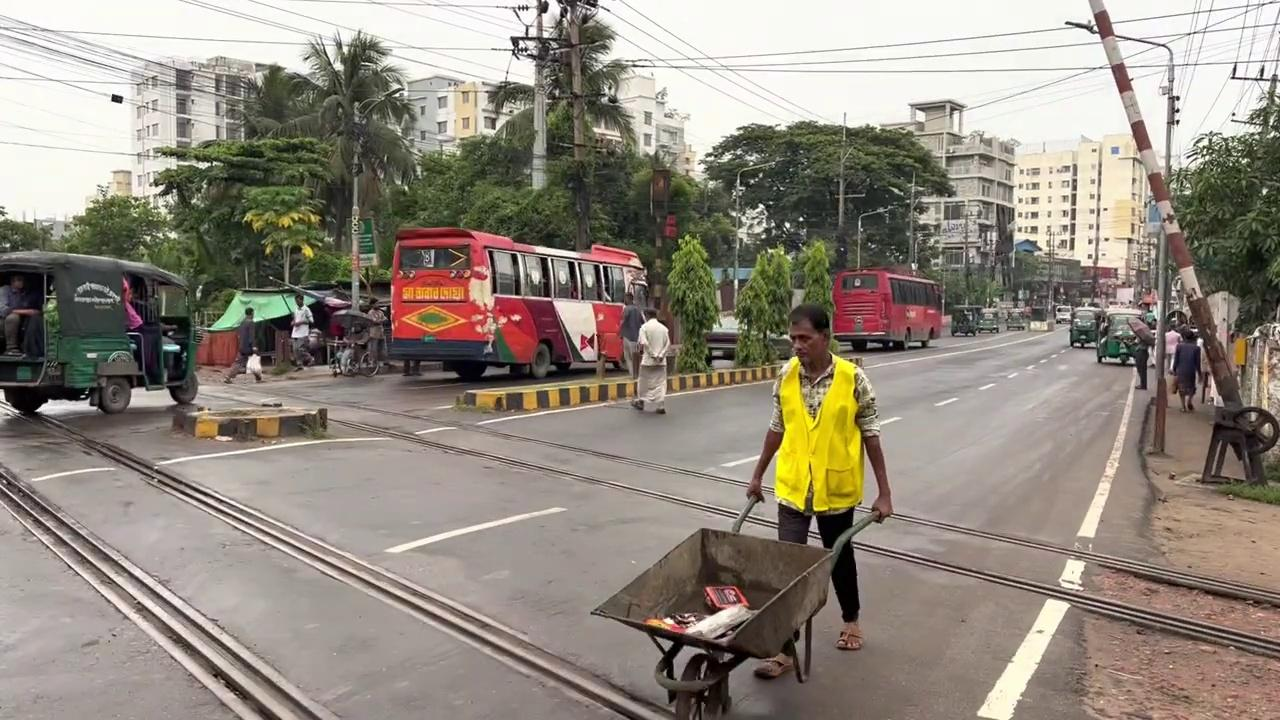Car: (453, 360, 788, 413)
Downstairs: (589, 492, 885, 717)
Fence: (745, 302, 893, 678), (631, 307, 670, 413), (0, 272, 42, 357), (221, 307, 263, 384), (289, 293, 314, 370)
Garbage: (1084, 0, 1267, 485)
Motorcycle: (88, 466, 490, 720)
Railroad-crossing: (1163, 71, 1279, 339), (664, 233, 719, 373), (732, 245, 792, 367)
Rickshaw: (387, 225, 650, 379), (0, 248, 200, 414), (830, 264, 944, 350)
